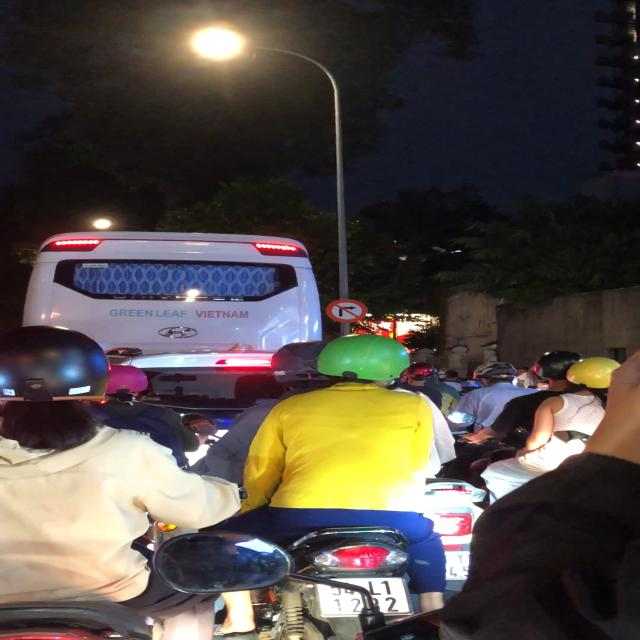Bien bao cam re phai: (326, 298, 372, 324)
